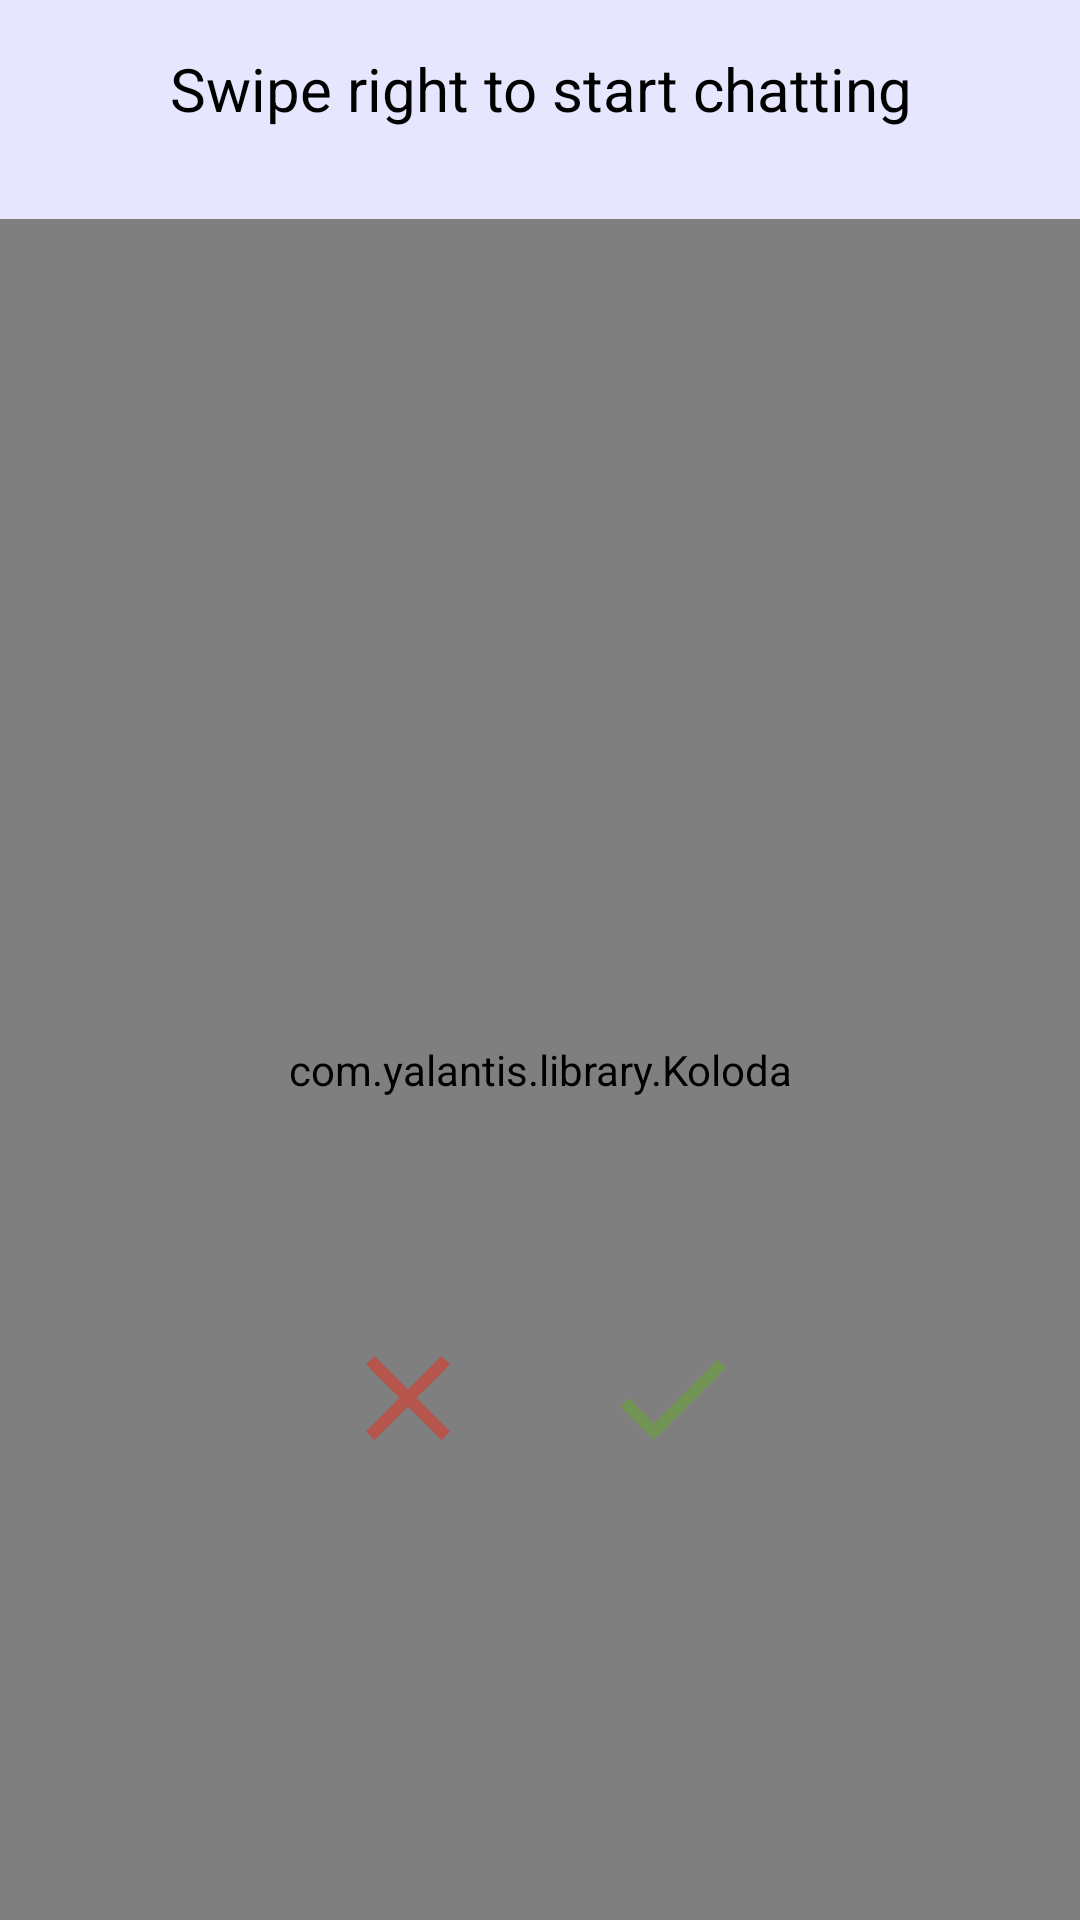

Where icons sit on this 1080w x 1920h app screen, as (x1, y1, x2, y2):
dislike: (366, 1356, 450, 1440)
like: (621, 1360, 725, 1439)
